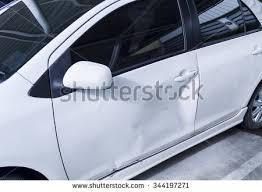doorouter-dent: (118, 57, 198, 150)
